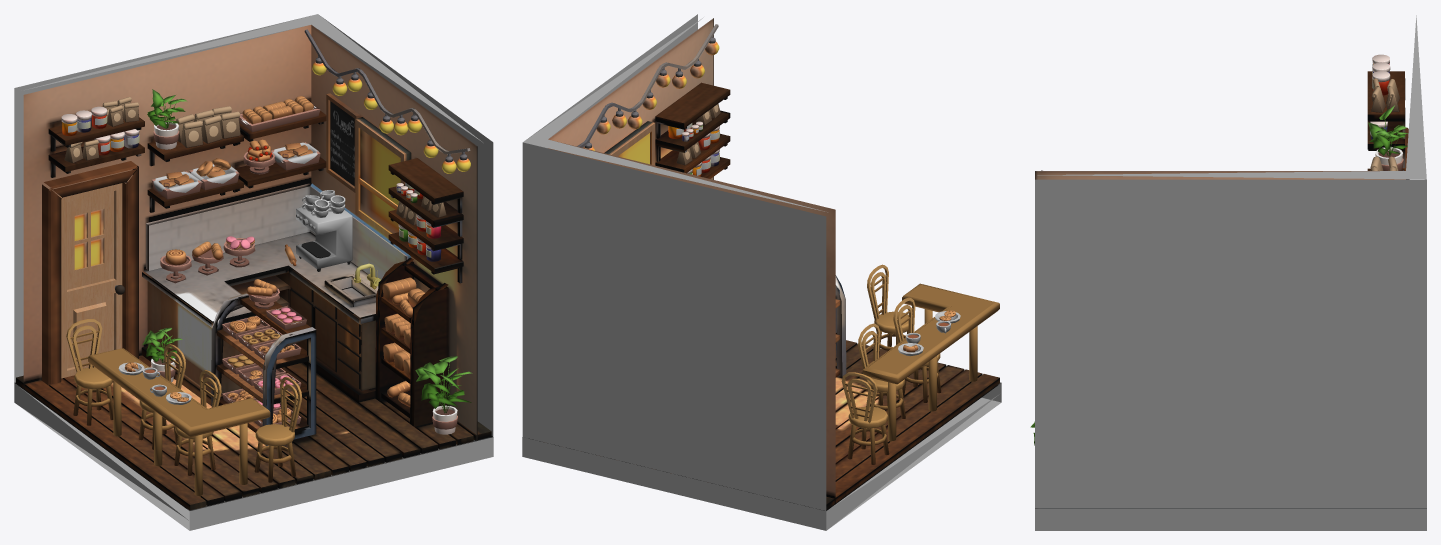
File: int_cafe_iso.fbx
3 views of the same model, side by side, from view 1: azimuth 30°, elevation 25°; view 2: azimuth 150°, elevation 25°; view 3: azimuth 270°, elevation 25° (orthographic). The views are drawn at different scales.
Parts seen in each view (by area): view 1: int_cafe_iso; view 2: int_cafe_iso; view 3: int_cafe_iso.
Part boxes in pixels (<box>): int_cafe_iso: <box>14,14,493,530</box>; int_cafe_iso: <box>522,14,1001,530</box>; int_cafe_iso: <box>1030,15,1426,530</box>.
Size of the model in its own units: 2 by 1.98 by 2.03.
Materials: 1 (1 with a texture image).
